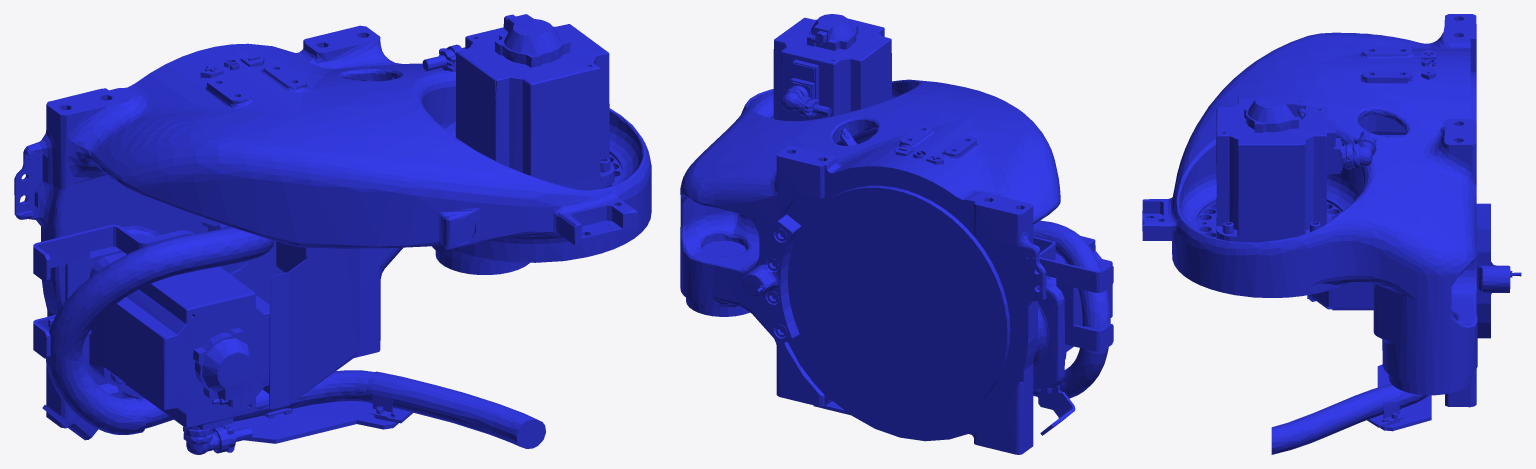
The picture shows the model from 3 angles, left to right: view 1: azimuth 30°, elevation 25°; view 2: azimuth 150°, elevation 25°; view 3: azimuth 270°, elevation 25°; orthographic projection. The views are drawn at different scales.
Parts seen in each view (by area): view 1: /Link1/Link1_004-mesh/0; view 2: /Link1/Link1_004-mesh/0; view 3: /Link1/Link1_004-mesh/0.
Boxes of the visible parts, bbox=[...] form: /Link1/Link1_004-mesh/0: bbox=[14, 14, 651, 454]; /Link1/Link1_004-mesh/0: bbox=[680, 14, 1113, 454]; /Link1/Link1_004-mesh/0: bbox=[1142, 14, 1521, 454].
Size of the model in its own units: 0.8317 by 0.6331 by 0.616.
